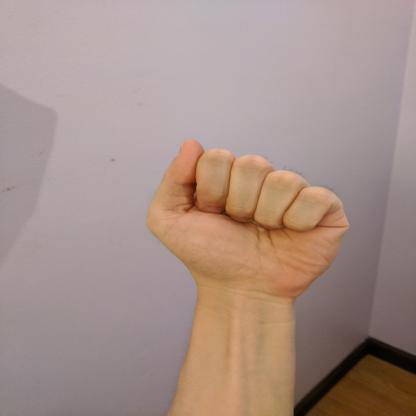A: (141, 136, 356, 298)
